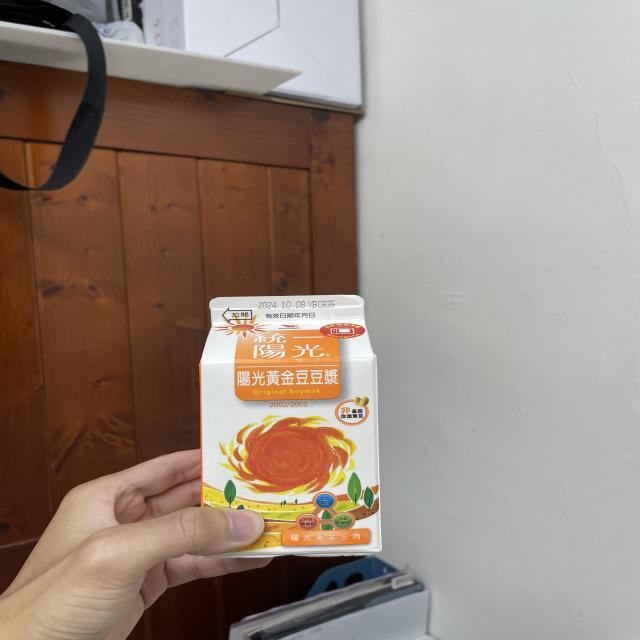TongYi_SoyMilk: (191, 291, 387, 558)
